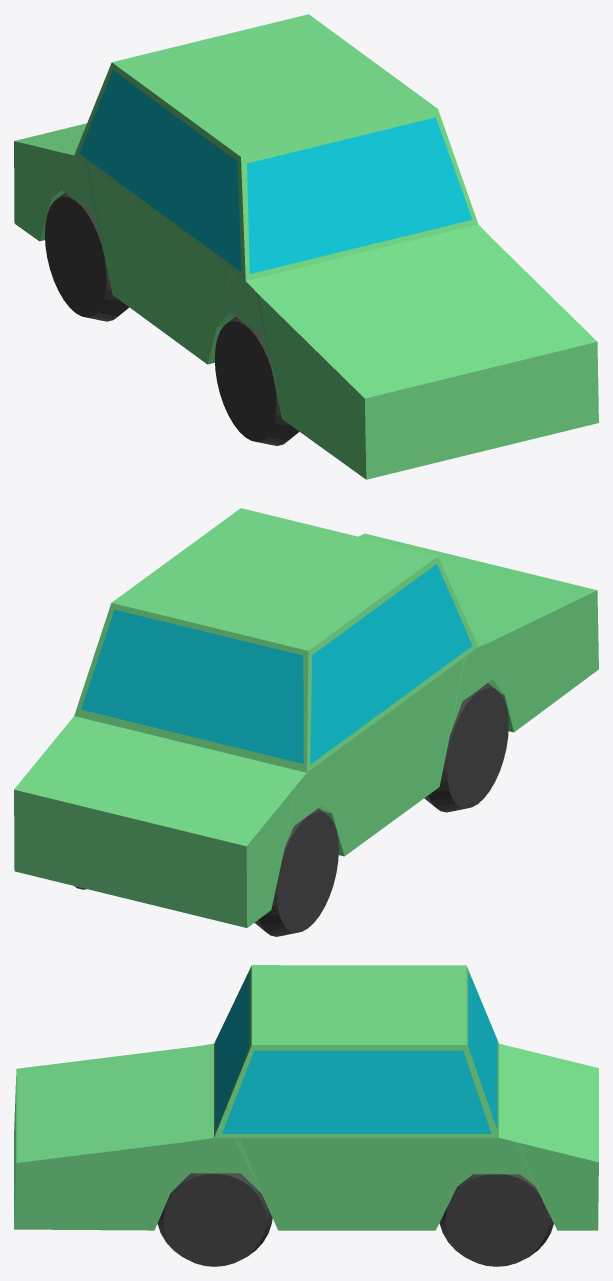
The model's file is GreenCar.fbx.
3 renders of one model, top to bottom at view 1: azimuth 30°, elevation 25°; view 2: azimuth 150°, elevation 25°; view 3: azimuth 270°, elevation 25°, orthographic. The views are drawn at different scales.
Visible parts, largest first — view 1: Cube, Plane, Plane.003, Cylinder, Cylinder.001; view 2: Cube, Plane.001, Plane.003, Cylinder, Cylinder.001; view 3: Cube, Plane.002, Cylinder, Cylinder.001, Plane, Plane.001.
Boxes of the visible parts, x1,y1,x2,y2 form: Cube: (14, 14, 598, 479); Plane: (247, 117, 472, 273); Plane.003: (79, 70, 241, 272); Cylinder: (214, 316, 299, 445); Cylinder.001: (45, 193, 129, 321); Cube: (14, 508, 598, 927); Plane.001: (81, 609, 303, 763); Plane.003: (310, 564, 472, 764); Cylinder: (424, 683, 508, 812); Cylinder.001: (74, 808, 338, 936); Cube: (14, 965, 598, 1230); Plane.002: (222, 1050, 491, 1133); Cylinder: (157, 1173, 272, 1266); Cylinder.001: (439, 1174, 553, 1266); Plane: (215, 972, 248, 1130); Plane.001: (468, 971, 497, 1129).
Bounding box in the file's own units: 5534 × 6077 × 14490.
